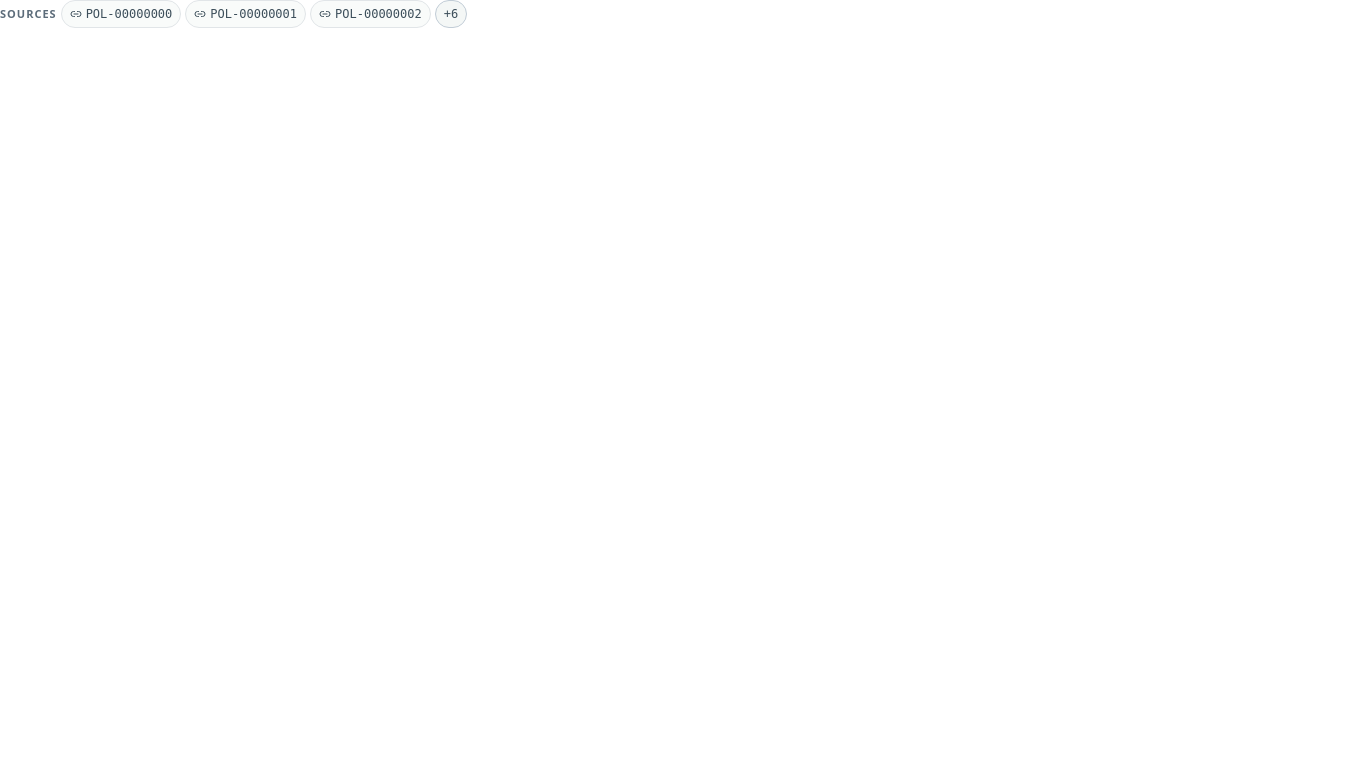
Test: CitationList › opens a dialog listing all of them, not just the overflow
Click the button with test id "citation-overflow" at x=451, y=14, box [435,0,467,28]
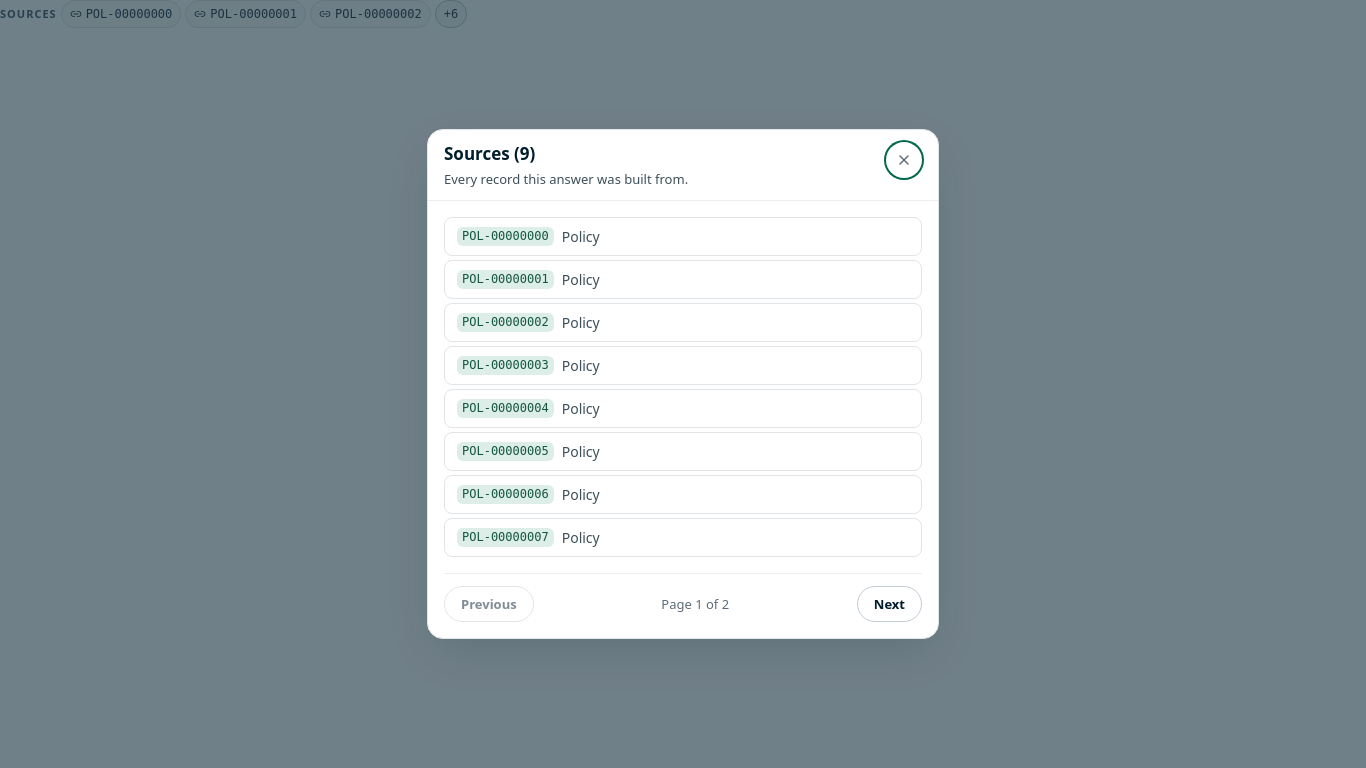
Expected: the list with test id "citation-dialog-list" is shown, [444,217,922,557]
Expected: the text with test id "citation-page" reads "Page 1 of 2", [661,595,729,613]
